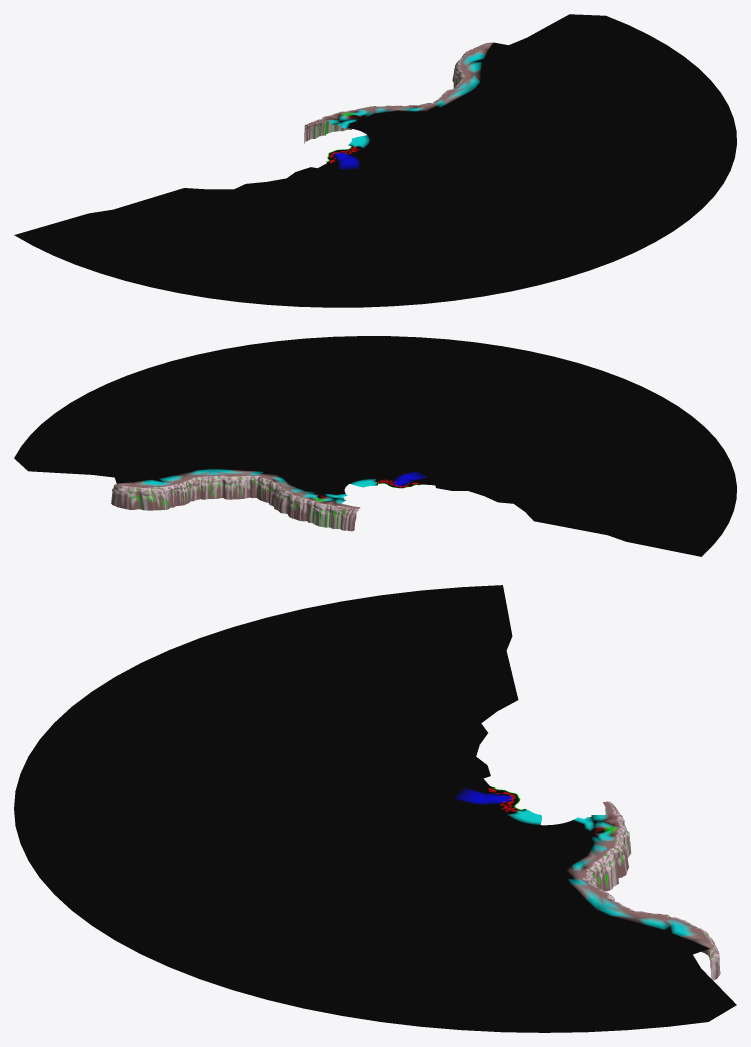
3 views of the same model, one above another, from view 1: azimuth 30°, elevation 25°; view 2: azimuth 150°, elevation 25°; view 3: azimuth 270°, elevation 25° (orthographic). The views are drawn at different scales.
Parts seen in each view (by area): view 1: G:\FFXIV-MapTools\exports\y6t1\bg\ex5\02_ykt_y6\twn\y6t1\bgp (×2); view 2: G:\FFXIV-MapTools\exports\y6t1\bg\ex5\02_ykt_y6\twn\y6t1\bgp (×2); view 3: G:\FFXIV-MapTools\exports\y6t1\bg\ex5\02_ykt_y6\twn\y6t1\bgp (×2).
Boxes of the visible parts, left/top/right/bottom form: G:\FFXIV-MapTools\exports\y6t1\bg\ex5\02_ykt_y6\twn\y6t1\bgp (×2): left=14, top=14, right=736, bottom=307; G:\FFXIV-MapTools\exports\y6t1\bg\ex5\02_ykt_y6\twn\y6t1\bgp (×2): left=14, top=336, right=736, bottom=556; G:\FFXIV-MapTools\exports\y6t1\bg\ex5\02_ykt_y6\twn\y6t1\bgp (×2): left=14, top=585, right=736, bottom=1032.
Size of the model in its own units: 8460 by 255 by 5772.
